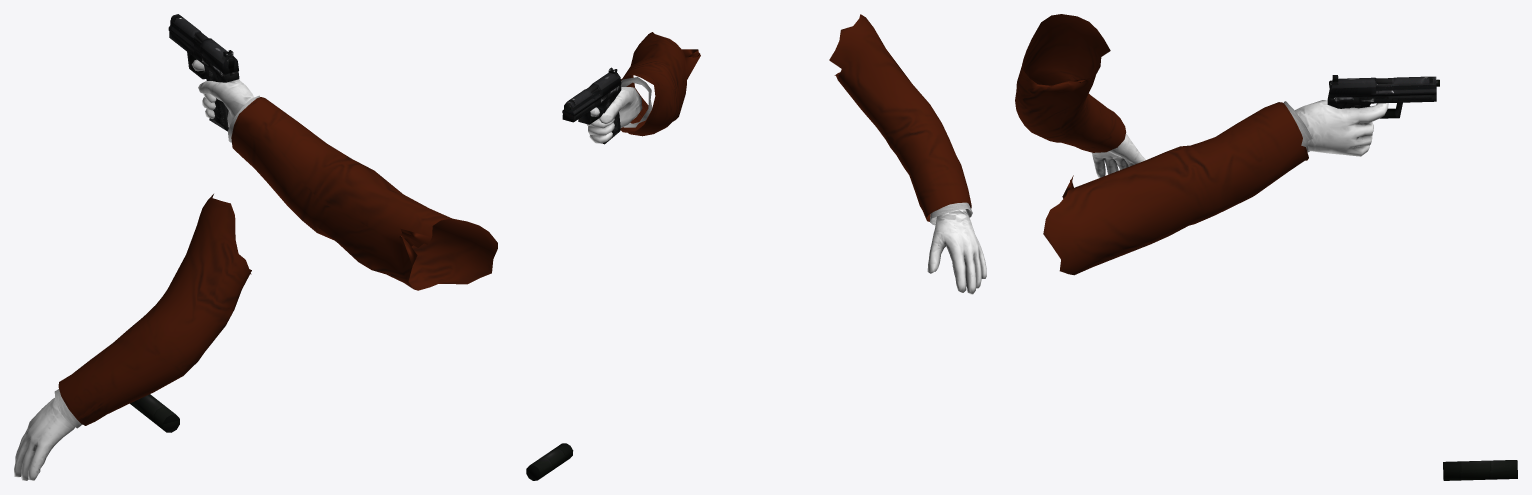
The model's file is frame_0009.obj.
3 renders of one model, left to right at view 1: azimuth 30°, elevation 25°; view 2: azimuth 150°, elevation 25°; view 3: azimuth 270°, elevation 25°, orthographic. The views are drawn at different scales.
Visible parts, largest first — view 1: PlayerModelMerged.001_PlayerModelMerged, glock_reference.001; view 2: PlayerModelMerged.001_PlayerModelMerged, glock_reference.001; view 3: PlayerModelMerged.001_PlayerModelMerged, glock_reference.001.
Part boxes in pixels (bbox=[...]): PlayerModelMerged.001_PlayerModelMerged: bbox=[14, 59, 497, 480]; glock_reference.001: bbox=[130, 14, 239, 432]; PlayerModelMerged.001_PlayerModelMerged: bbox=[586, 14, 986, 294]; glock_reference.001: bbox=[526, 67, 621, 480]; PlayerModelMerged.001_PlayerModelMerged: bbox=[1015, 14, 1388, 275]; glock_reference.001: bbox=[1327, 75, 1517, 480].
Bounding box in the file's own units: 1.14 × 1.04 × 1.17.
